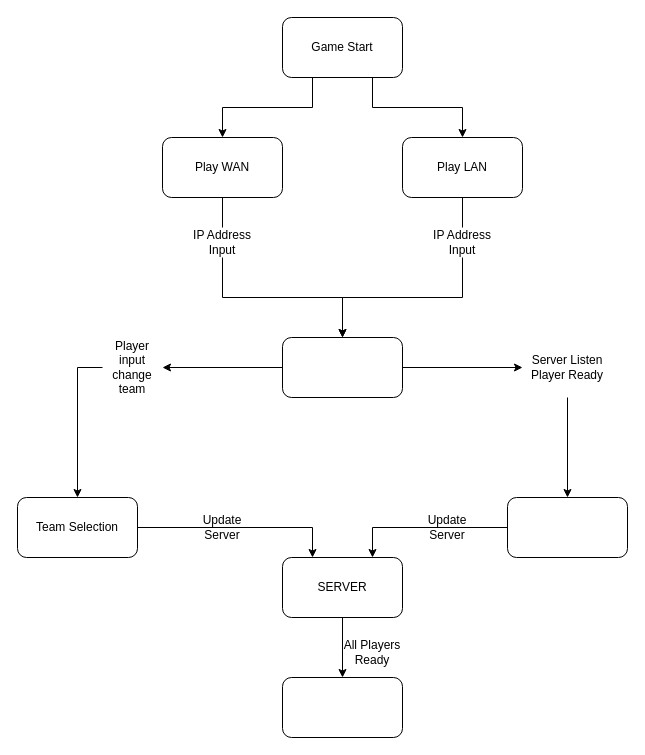
Image size: 645x755. Some labels were removed from this diagram. The shapes that lost their labels are listed below. From the top down, each one's centre as x and y in pixels, then its label:
At point 342,367: "Lobby Menu".
At point 567,527: "Player Ready Button".
At point 342,707: "Match Start".
